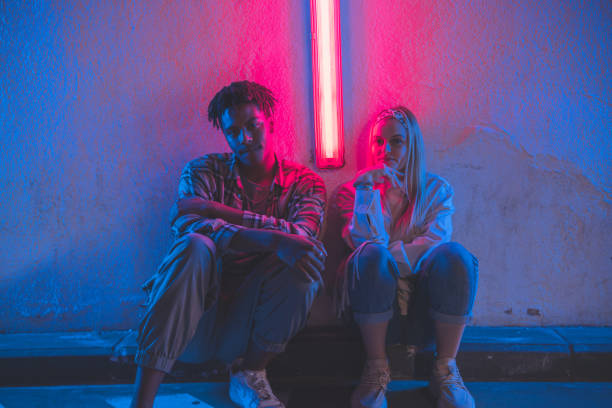without mask: (215, 93, 278, 169), (373, 120, 412, 177)
